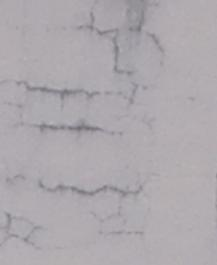fissura: (4, 60, 154, 265), (74, 2, 197, 90)
